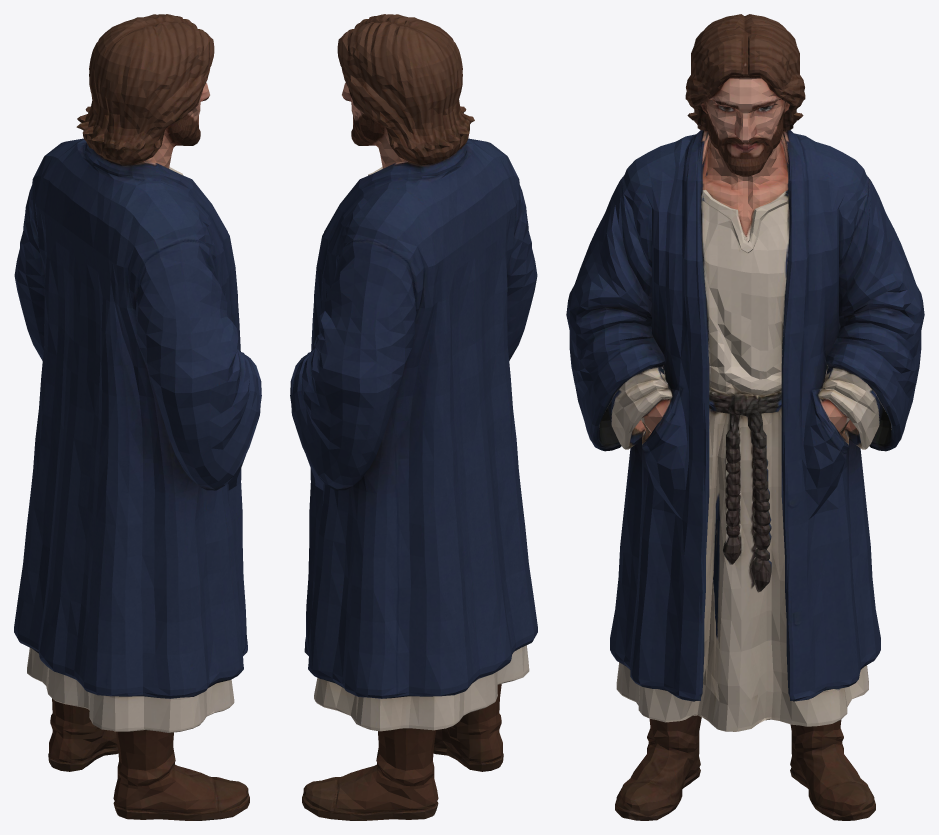
File: Jesus.glb
The picture shows the model from 3 angles, left to right: view 1: azimuth 30°, elevation 25°; view 2: azimuth 150°, elevation 25°; view 3: azimuth 270°, elevation 25°; orthographic projection. The views are drawn at different scales.
Visible parts, largest first — view 1: tripo_node_75e699b5-6363-4bf8-9762-1341d04e023e; view 2: tripo_node_75e699b5-6363-4bf8-9762-1341d04e023e; view 3: tripo_node_75e699b5-6363-4bf8-9762-1341d04e023e.
Part boxes in pixels (x1,y1,x2,y2): tripo_node_75e699b5-6363-4bf8-9762-1341d04e023e: [14, 14, 261, 820]; tripo_node_75e699b5-6363-4bf8-9762-1341d04e023e: [290, 14, 537, 820]; tripo_node_75e699b5-6363-4bf8-9762-1341d04e023e: [566, 14, 924, 820].
Bounding box in the file's own units: 0.4552 × 1.8 × 0.7517.
Materials: 1 (1 with a texture image).
